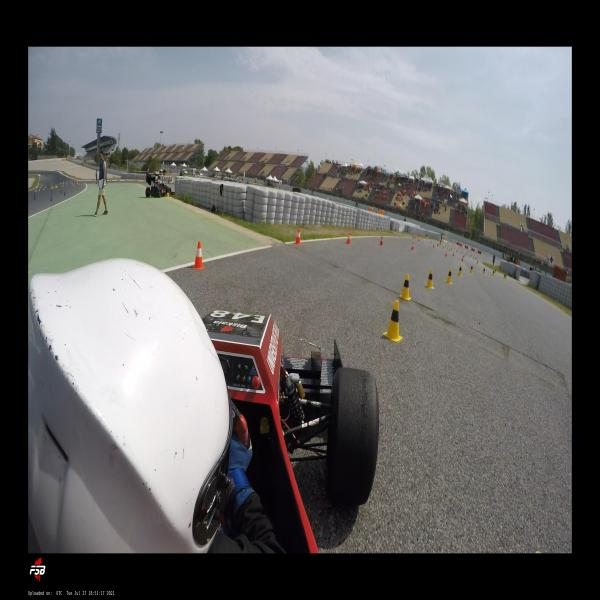orange_cone: (191, 241, 206, 270), (294, 229, 301, 244), (345, 232, 351, 245), (378, 236, 384, 246), (411, 242, 414, 251), (461, 256, 464, 262), (432, 242, 435, 248), (444, 251, 447, 257), (452, 251, 454, 257), (418, 237, 420, 242), (72, 183, 74, 187)
unknown_cone: (50, 195, 53, 202), (63, 190, 66, 196), (34, 193, 36, 200)
yellow_cone: (382, 300, 403, 342), (398, 273, 411, 301), (424, 268, 433, 290), (445, 268, 452, 284), (458, 264, 462, 277), (470, 264, 473, 274), (482, 267, 485, 275), (492, 268, 494, 276), (504, 272, 506, 279), (476, 260, 478, 266), (505, 273, 507, 279), (494, 269, 496, 273)
